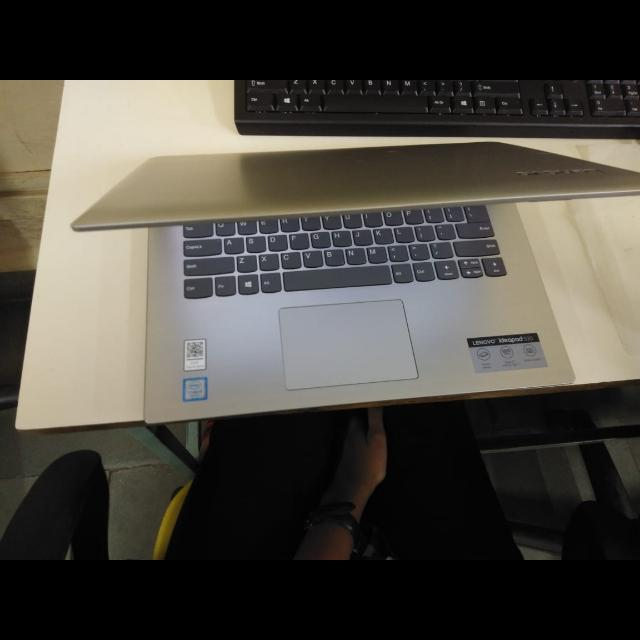Laptop: (65, 128, 640, 430)
